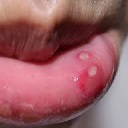Cold Sore: (78, 48, 106, 92)
